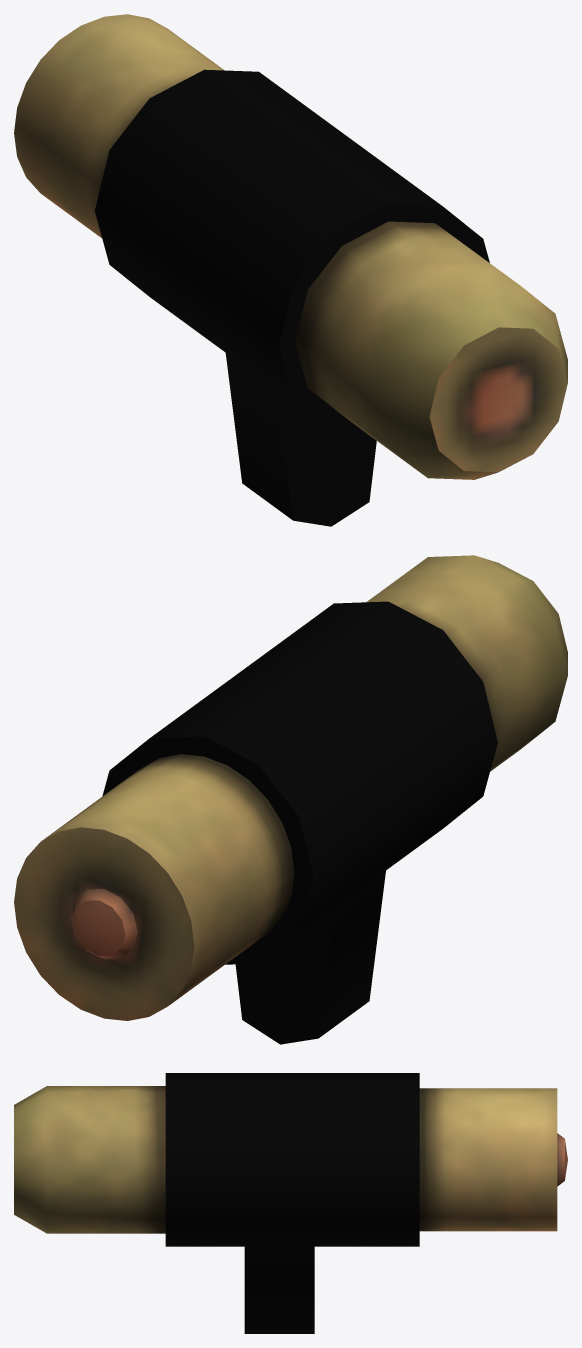
Rendered from lmgshell.fbx.
3 views of the same model, one above another, from view 1: azimuth 30°, elevation 25°; view 2: azimuth 150°, elevation 25°; view 3: azimuth 270°, elevation 25° (orthographic). The views are drawn at different scales.
Visible parts, largest first — view 1: bullet; view 2: bullet; view 3: bullet.
Boxes of the visible parts, x1,y1,x2,y2 form: bullet: (14,14,567,526); bullet: (14,555,567,1044); bullet: (14,1073,567,1333).
Size of the model in its own units: 1.46 by 2.31 by 4.64.
